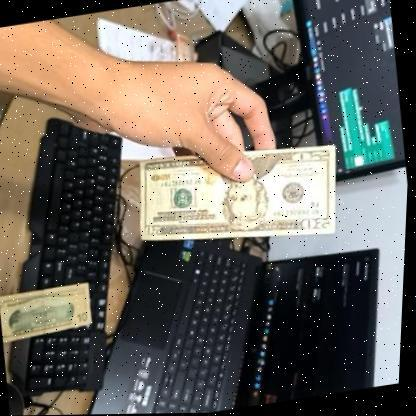ten-back: (0, 278, 98, 344)
twenty-front: (130, 129, 350, 264)
